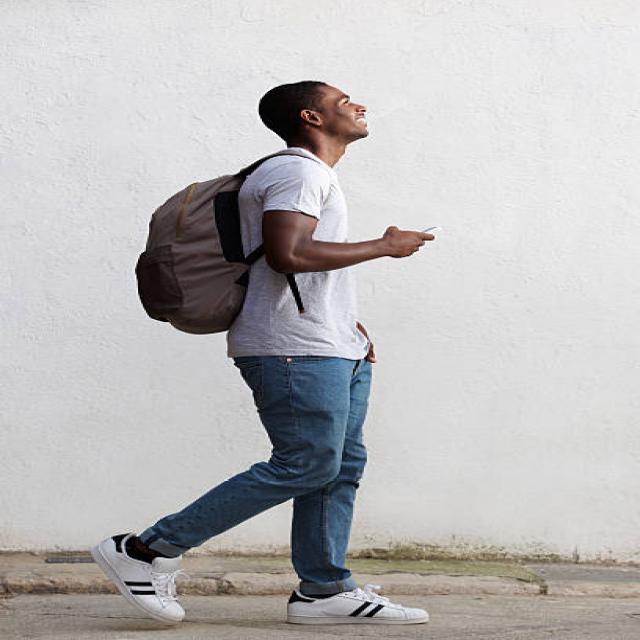Person: (93, 79, 432, 625)
